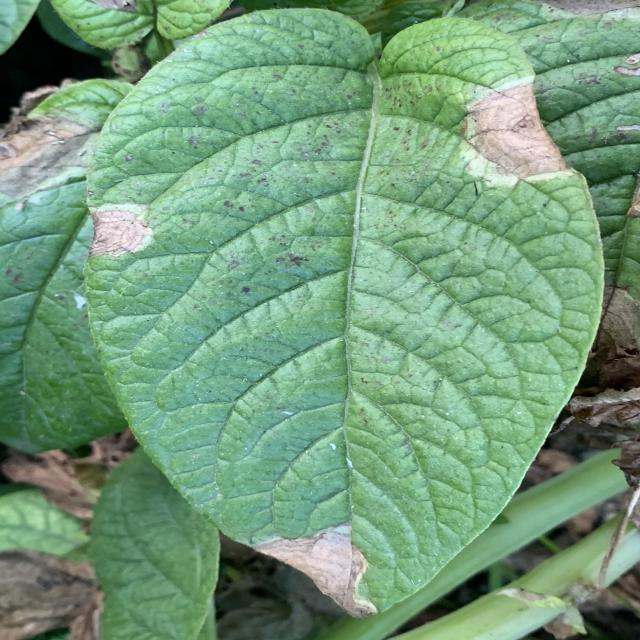lateblight: (0, 79, 132, 201), (255, 522, 377, 616), (463, 82, 567, 179), (90, 202, 153, 258)
